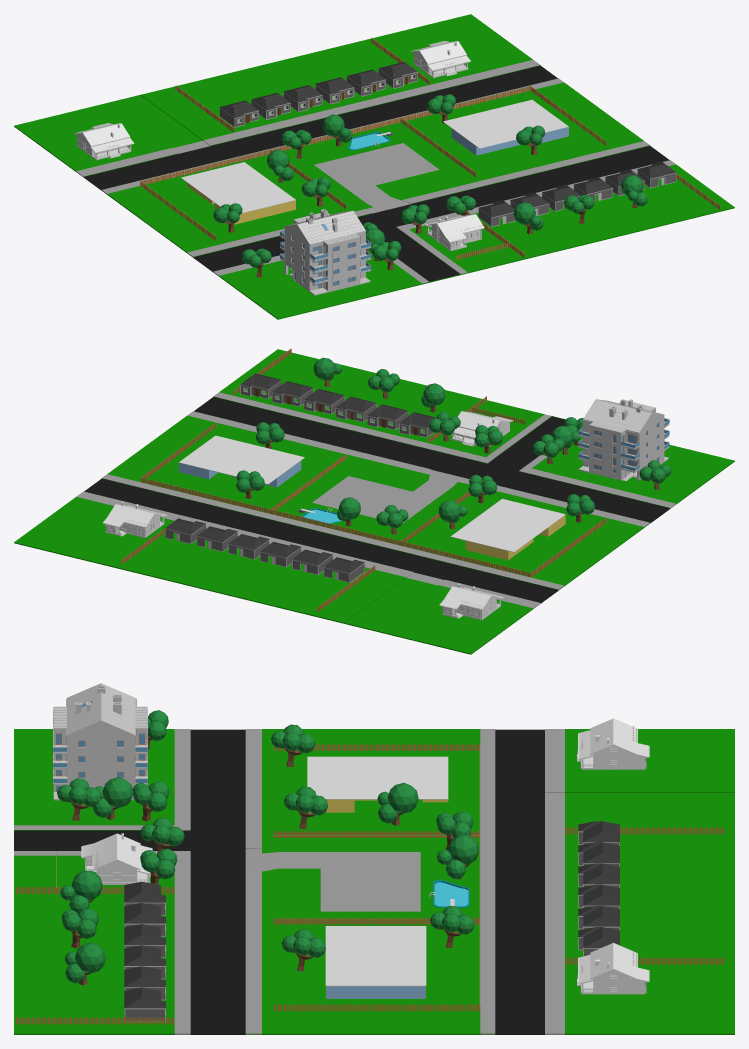
File: Mapa.fbx
3 views of the same model, one above another, from view 1: azimuth 30°, elevation 25°; view 2: azimuth 150°, elevation 25°; view 3: azimuth 270°, elevation 25° (orthographic). The views are drawn at different scales.
Parts seen in each view (by area): view 1: Cube.022, building_04, Vert.001, Vert, Cube.150, Cube.149, Cottage_Free.006, Cottage_Free.005, Cottage_Free.001, Plane.077, Plane.078, Cube.153 (+14 smaller); view 2: Cube.022, building_04, Vert.001, Vert, Cube.150, Cube.149, Cottage_Free.005, Cottage_Free.006, Cottage_Free.001, Plane.078, Cube.102, Cube.151 (+14 smaller); view 3: Cube.022, building_04, Cube.149, Vert, Cube.150, Vert.001, Cottage_Free.005, Cottage_Free.006, Cottage_Free.001, Cube.155, Plane.077, Cube.008_Cube.002 (+22 smaller).
Part boxes in pixels (x1,y1,x2,y2): Cube.022: [14, 14, 734, 319]; building_04: [280, 209, 371, 295]; Vert.001: [219, 62, 417, 127]; Vert: [478, 161, 676, 226]; Cube.150: [181, 162, 295, 213]; Cube.149: [443, 99, 568, 148]; Cottage_Free.006: [74, 123, 134, 160]; Cottage_Free.005: [410, 41, 470, 77]; Cottage_Free.001: [424, 214, 484, 250]; Plane.077: [451, 127, 568, 155]; Plane.078: [187, 183, 295, 224]; Cube.153: [141, 149, 270, 184]; Cube.022: [14, 349, 734, 654]; building_04: [578, 399, 669, 480]; Vert.001: [165, 518, 364, 582]; Vert: [240, 373, 436, 437]; Cube.150: [450, 498, 565, 552]; Cube.149: [179, 435, 304, 484]; Cottage_Free.005: [102, 501, 167, 537]; Cottage_Free.006: [439, 583, 503, 620]; Cottage_Free.001: [451, 411, 513, 447]; Plane.078: [465, 515, 565, 560]; Cube.102: [271, 509, 400, 545]; Cube.151: [141, 477, 270, 513]; Cube.022: [14, 729, 734, 1034]; building_04: [53, 683, 148, 800]; Cube.149: [325, 926, 426, 986]; Vert: [124, 881, 165, 1021]; Cube.150: [307, 756, 448, 799]; Vert.001: [578, 821, 619, 955]; Cottage_Free.005: [577, 943, 649, 994]; Cottage_Free.006: [577, 718, 649, 769]; Cottage_Free.001: [81, 833, 152, 884]; Cube.155: [274, 1004, 479, 1011]; Plane.077: [326, 986, 425, 998]; Cube.008_Cube.002: [377, 782, 418, 825].
Size of the model in its own units: 14549 by 2189 by 14549.
